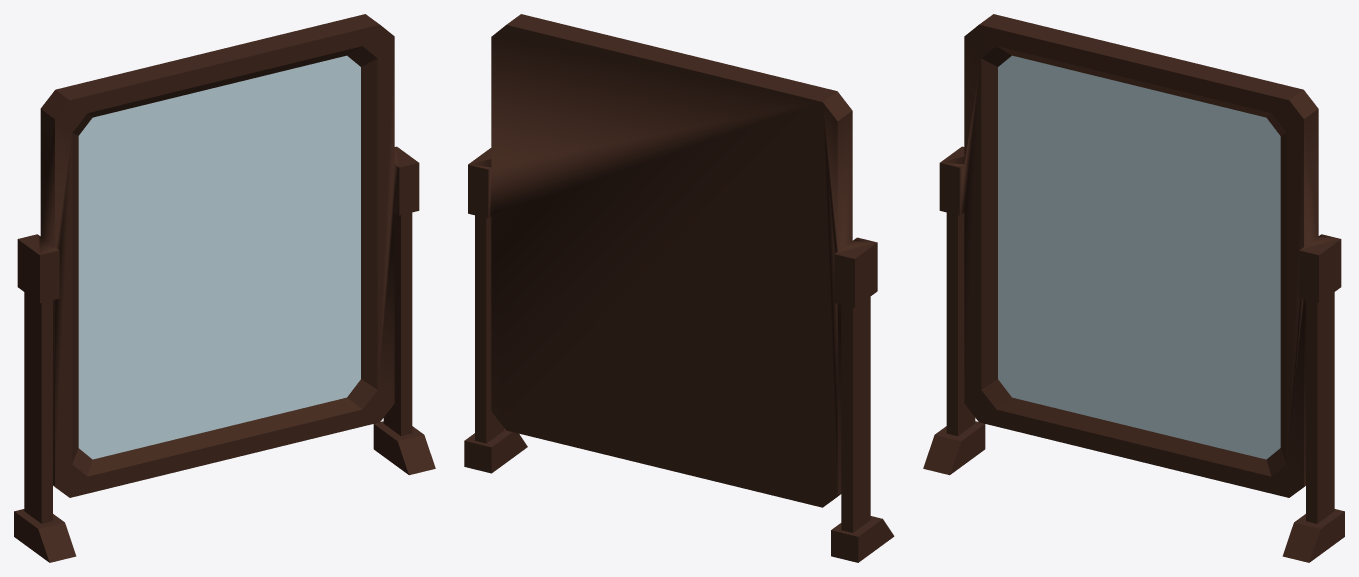
File: mirror.glb
The picture shows the model from 3 angles, left to right: view 1: azimuth 30°, elevation 25°; view 2: azimuth 150°, elevation 25°; view 3: azimuth 330°, elevation 25°; orthographic projection. The views are drawn at different scales.
Parts seen in each view (by area): view 1: SM_Prop_Mirror_01_Mirror; view 2: SM_Prop_Mirror_01_Mirror; view 3: SM_Prop_Mirror_01_Mirror.
Boxes of the visible parts, x1=… form: SM_Prop_Mirror_01_Mirror: x1=14, y1=14, x2=435, y2=562; SM_Prop_Mirror_01_Mirror: x1=464, y1=14, x2=894, y2=562; SM_Prop_Mirror_01_Mirror: x1=923, y1=14, x2=1344, y2=562.
Size of the model in its own units: 0.8927 by 0.9726 by 0.1426.
Materials: 1 (1 with a texture image).
